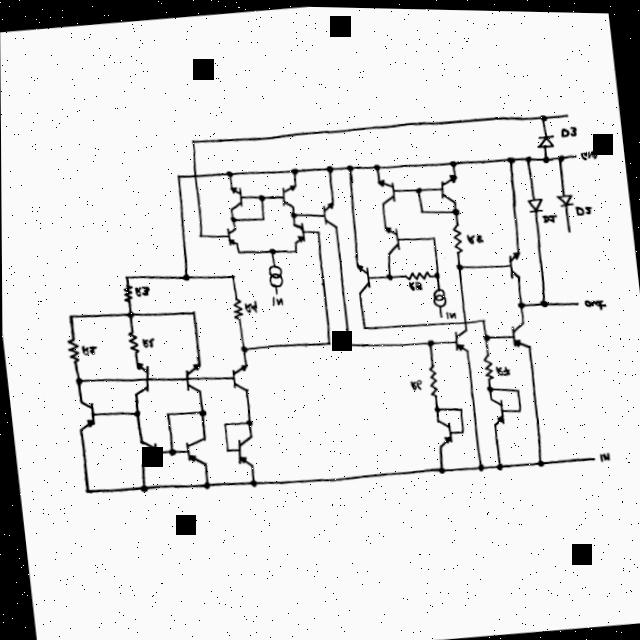crossover: (463, 318, 467, 322)
diode: (526, 194, 544, 211), (555, 190, 574, 205), (535, 132, 555, 146)
junction: (480, 330, 490, 341), (431, 402, 442, 412), (139, 482, 149, 492), (238, 343, 248, 353), (538, 296, 548, 305), (289, 165, 299, 174), (455, 260, 464, 270), (516, 298, 525, 308), (74, 376, 83, 386), (506, 153, 516, 162), (167, 446, 176, 456), (555, 151, 565, 160), (541, 152, 551, 161), (125, 309, 134, 318), (535, 456, 544, 465), (181, 272, 190, 281), (197, 407, 206, 416), (132, 408, 141, 417), (372, 161, 381, 170), (325, 163, 334, 172), (202, 479, 211, 488), (257, 192, 265, 201), (248, 478, 257, 486), (538, 112, 547, 120), (225, 169, 234, 177), (436, 464, 445, 472), (267, 246, 276, 254), (384, 271, 393, 279), (83, 486, 91, 495), (244, 417, 253, 425), (451, 205, 459, 214), (426, 337, 434, 345), (346, 162, 354, 170), (449, 157, 457, 165), (495, 460, 503, 468), (477, 461, 484, 469), (433, 269, 440, 277), (314, 226, 321, 234), (524, 153, 532, 160), (485, 383, 493, 390), (325, 338, 332, 345), (344, 339, 351, 346), (164, 410, 171, 417), (67, 313, 74, 320), (189, 137, 196, 144), (516, 404, 523, 411), (230, 215, 237, 222), (415, 185, 422, 191), (175, 172, 182, 178), (430, 233, 437, 239), (197, 231, 204, 237), (259, 215, 266, 221), (514, 385, 521, 391), (123, 274, 130, 280), (290, 210, 297, 216), (190, 309, 196, 315), (229, 272, 235, 278), (361, 323, 367, 329), (419, 207, 425, 213), (458, 404, 463, 410), (459, 427, 465, 432), (236, 248, 241, 253), (293, 247, 297, 252), (481, 316, 486, 320), (222, 421, 227, 425), (225, 447, 229, 451)
resistor: (425, 361, 440, 396), (450, 220, 465, 252), (65, 336, 80, 364), (480, 352, 494, 381), (126, 327, 140, 356), (403, 268, 431, 279), (231, 296, 243, 320), (121, 282, 134, 304)
terminal: (564, 223, 573, 232), (572, 296, 579, 304), (570, 150, 576, 157), (437, 311, 443, 318), (589, 452, 595, 458), (273, 289, 279, 294)
text: (583, 295, 607, 309), (559, 122, 578, 135), (243, 298, 259, 313), (133, 284, 150, 297), (580, 146, 598, 158), (466, 230, 484, 242), (541, 210, 558, 222), (494, 362, 511, 374), (574, 202, 592, 213), (80, 344, 97, 355), (407, 278, 423, 289), (409, 377, 422, 389), (597, 449, 610, 460), (271, 294, 284, 305), (141, 336, 154, 347), (445, 309, 456, 318), (562, 109, 569, 115)
transformer: (266, 262, 284, 289), (431, 284, 447, 306)
transistor: (73, 397, 97, 433), (183, 435, 209, 467), (136, 435, 162, 466), (130, 360, 152, 395), (507, 317, 531, 349), (233, 433, 255, 467), (180, 361, 203, 392), (438, 171, 460, 203), (228, 362, 250, 392), (434, 417, 455, 446), (377, 174, 397, 204), (383, 223, 401, 253), (279, 182, 298, 209), (355, 261, 371, 293), (488, 394, 505, 424), (321, 199, 338, 228), (507, 248, 523, 278), (452, 325, 469, 352), (227, 185, 243, 209), (291, 220, 306, 242), (225, 226, 238, 245)
